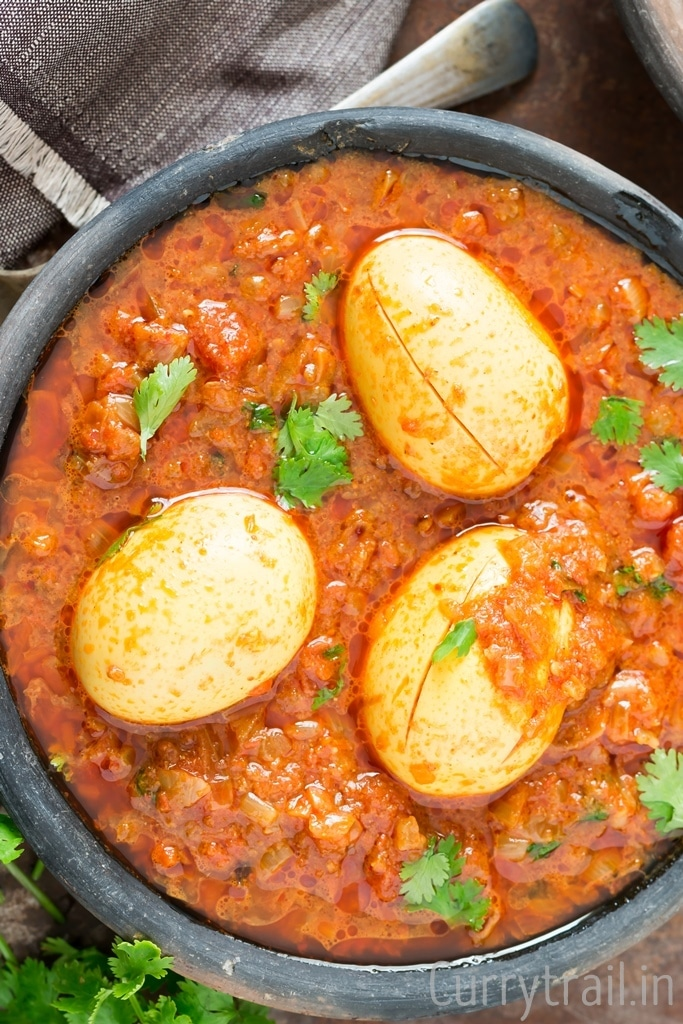curry: (39, 176, 683, 945)
egg: (330, 226, 593, 500), (336, 524, 599, 798), (57, 462, 320, 736)
